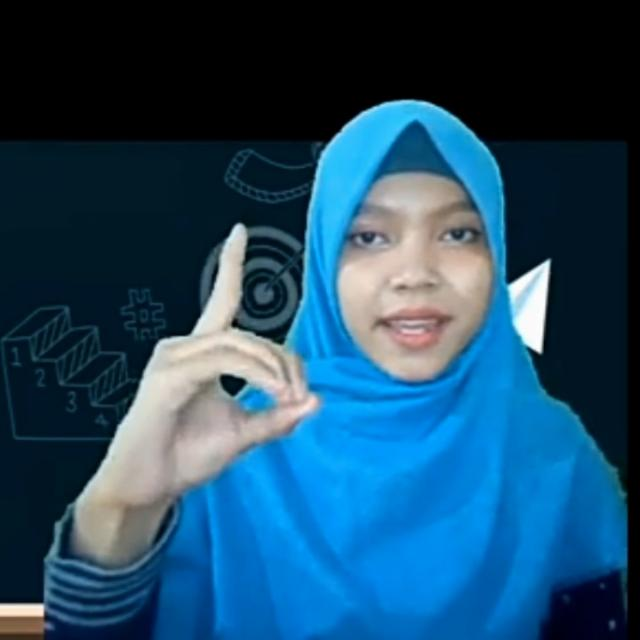D: (116, 223, 320, 491)
